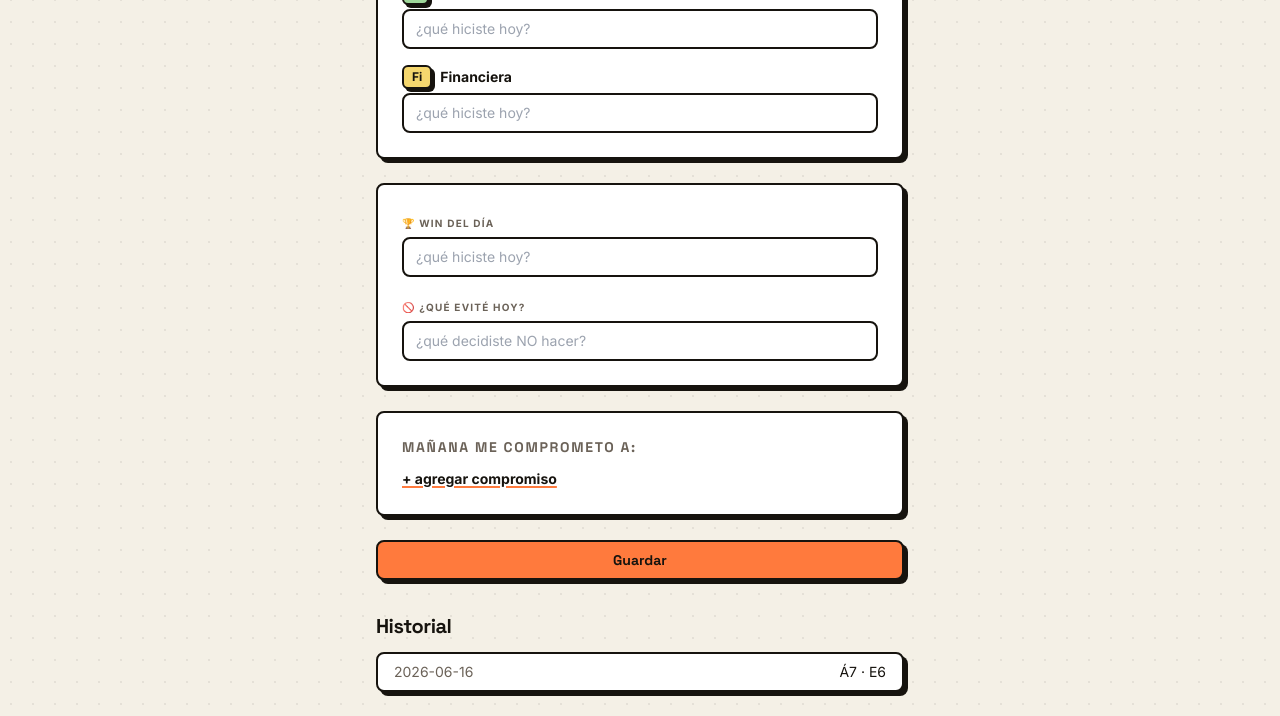
Scenario: CheckInPage — detalle del día › cierra el modal con ✕
(page scrolled)
Click the button named "Ver detalle del 2026-06-16" at {"x": 640, "y": 672}, box [376,652,904,692]
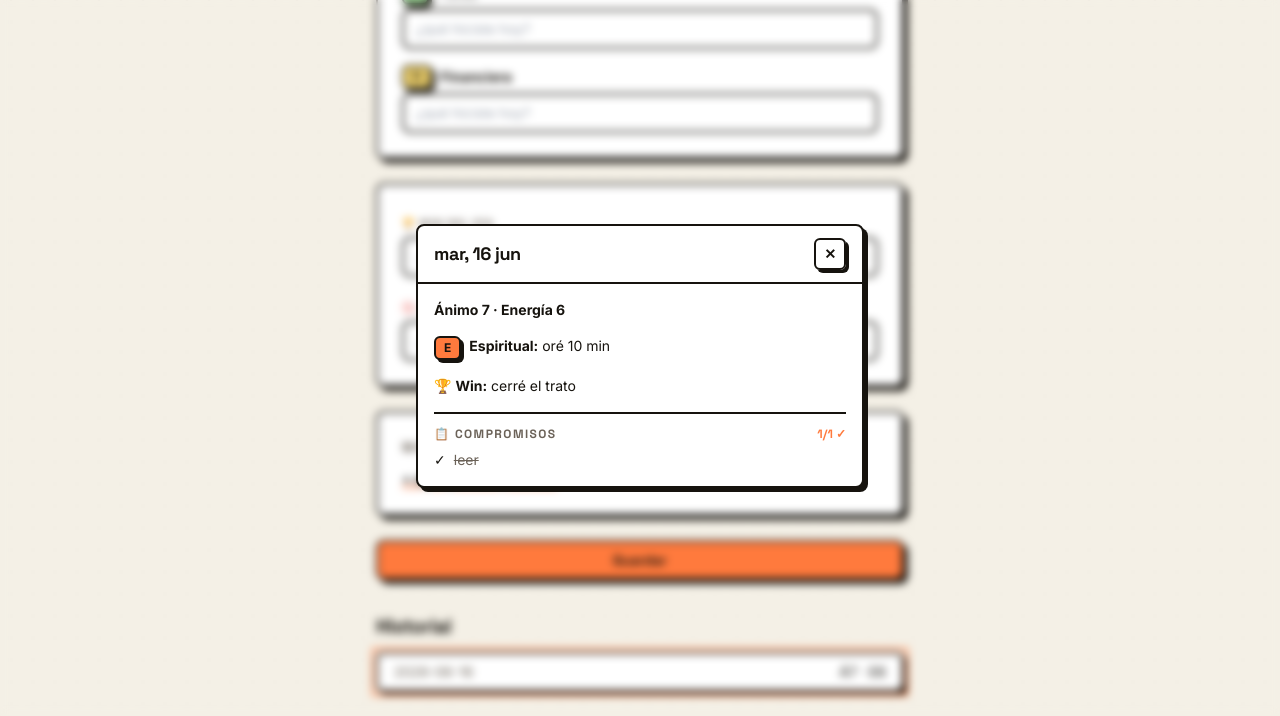
Result: the text "Espiritual: oré 10 min" is shown at [469,336,610,356]
Click the button named "Cerrar" at {"x": 830, "y": 254}, box [814,238,846,270]
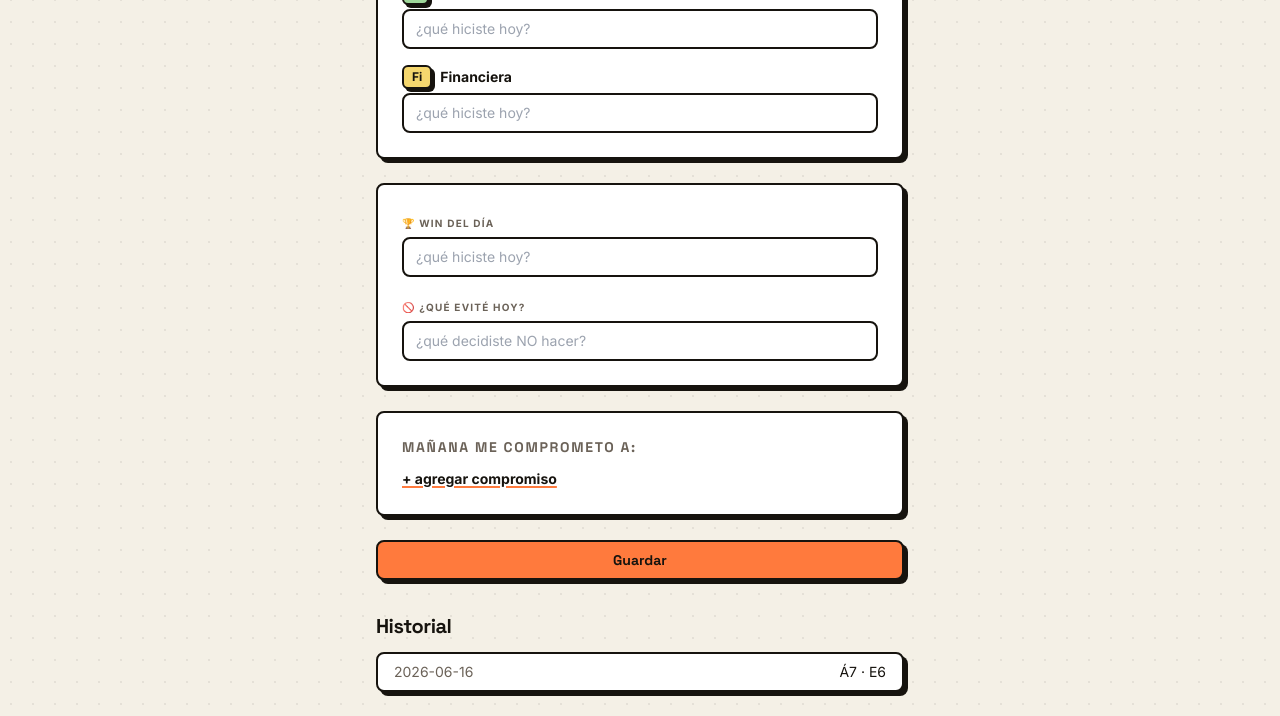
Result: the text "oré 10 min" is gone
